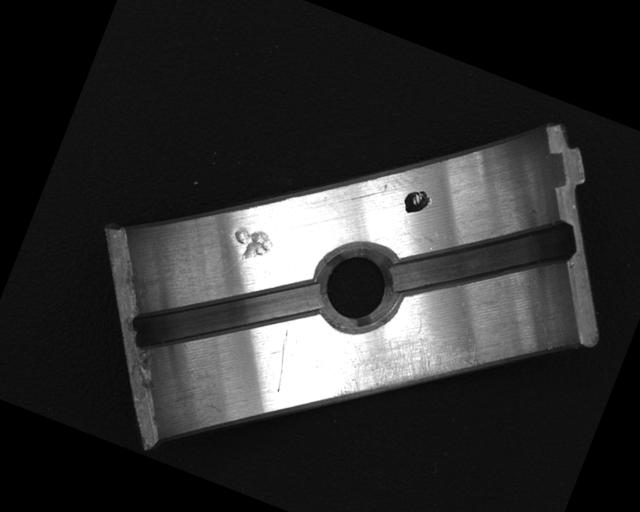blot: (399, 184, 434, 220)
bruise: (225, 221, 276, 269)
gap: (124, 228, 326, 404), (385, 170, 582, 345)
hole: (298, 227, 416, 345)
nick: (260, 320, 304, 392)
scratch: (328, 291, 501, 449)
